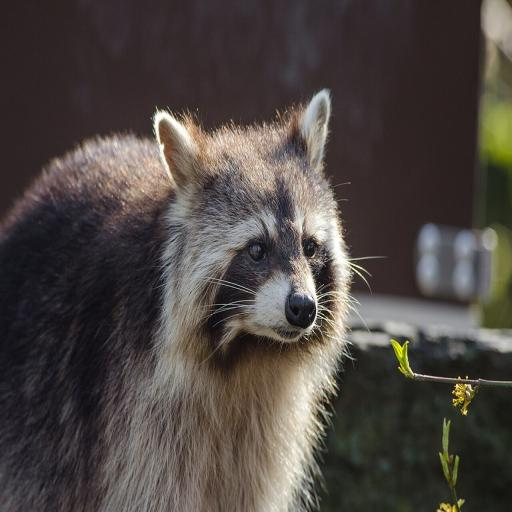raccoon: (0, 91, 349, 511)
